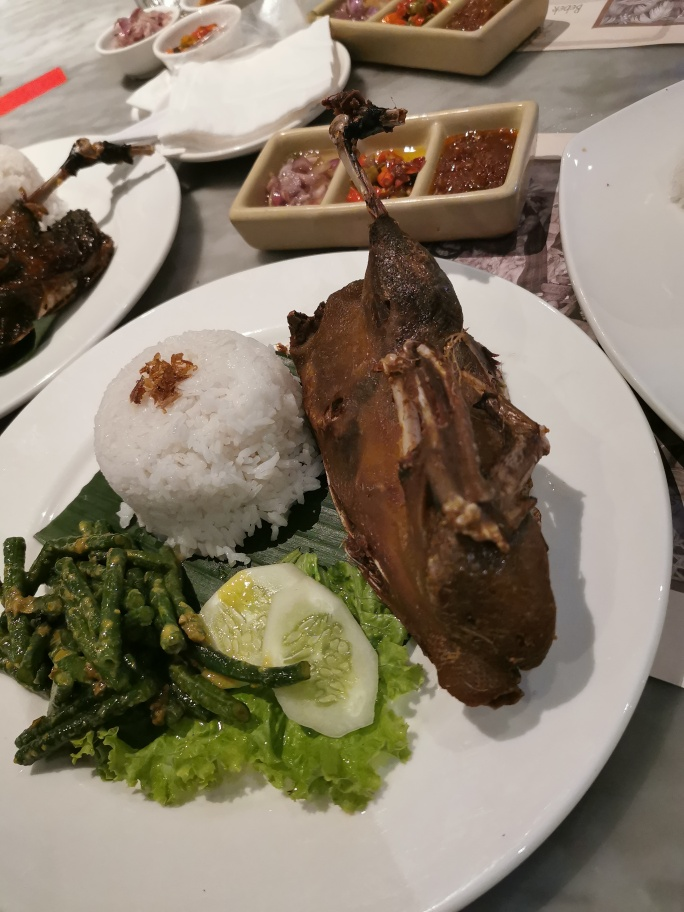bebek goreng: (283, 82, 563, 707)
nasi putih: (89, 316, 319, 561)
